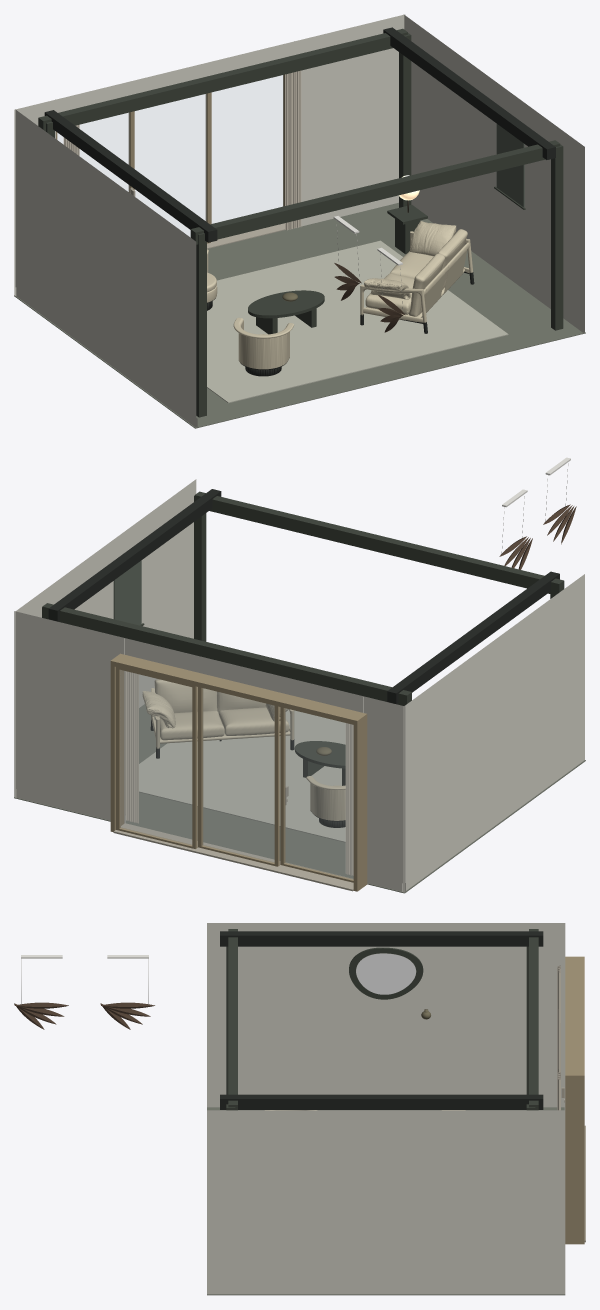
The model's file is great-1.glb.
The picture shows the model from 3 angles, top to bottom: view 1: azimuth 30°, elevation 25°; view 2: azimuth 150°, elevation 25°; view 3: azimuth 270°, elevation 25°; orthographic projection.
Visible parts, largest first — view 1: DESIGN | great removable wall finish, DESIGN | Great room primary ground, DESIGN | great floor finish, DESIGN | R10 lift-slide panel 3 glass, DESIGN | R10 lift-slide panel 2 glass, DESIGN | Great room sofa facing conversation, DESIGN | Great room timber ceiling member, DESIGN | Great room timber ceiling member.002, DESIGN | Great room structural edge.001, DESIGN | Great room structural edge, DESIGN | Great room soft window edge.001, DESIGN | Great room timber end post.002 (+8 smaller); view 2: DESIGN | great removable wall finish, DESIGN | Great room primary ground, DESIGN | R10 lift-slide panel 3 glass, DESIGN | R10 lift-slide panel 2 glass, DESIGN | R10 lift-slide panel 1 glass, DESIGN | great floor finish, DESIGN | Great room sofa facing conversation, DESIGN | Great room timber ceiling member, DESIGN | Great room timber ceiling member.002, DESIGN | R10 garden opening head, DESIGN | Great room structural edge.001, DESIGN | Great room structural edge (+15 smaller); view 3: DESIGN | great removable wall finish, DESIGN | Great room structural edge, DESIGN | Great room structural edge.001, DESIGN | R10 garden opening jamb.001, DESIGN | R10 garden opening head, DESIGN | R10 Giolino study reflective surface, DESIGN | Great room timber ceiling member.002, DESIGN | Great room timber ceiling member, DESIGN | R10 Giolino-inspired walnut frame, DESIGN | great floor finish, DESIGN | Required Flou pendant 1, DESIGN | Required Flou pendant 2.
Boxes of the visible parts, bbox=[...] form: DESIGN | great removable wall finish: bbox=[14, 14, 584, 427]; DESIGN | Great room primary ground: bbox=[207, 240, 508, 403]; DESIGN | great floor finish: bbox=[14, 202, 585, 428]; DESIGN | R10 lift-slide panel 3 glass: bbox=[212, 75, 283, 223]; DESIGN | R10 lift-slide panel 2 glass: bbox=[135, 94, 206, 236]; DESIGN | Great room sofa facing conversation: bbox=[360, 221, 474, 333]; DESIGN | Great room timber ceiling member: bbox=[190, 140, 560, 244]; DESIGN | Great room timber ceiling member.002: bbox=[38, 28, 407, 131]; DESIGN | Great room structural edge.001: bbox=[383, 27, 555, 159]; DESIGN | Great room structural edge: bbox=[44, 110, 217, 242]; DESIGN | Great room soft window edge.001: bbox=[285, 70, 301, 230]; DESIGN | Great room timber end post.002: bbox=[551, 144, 563, 330]; DESIGN | great removable wall finish: bbox=[14, 479, 584, 892]; DESIGN | Great room primary ground: bbox=[139, 709, 345, 842]; DESIGN | R10 lift-slide panel 3 glass: bbox=[120, 670, 191, 845]; DESIGN | R10 lift-slide panel 2 glass: bbox=[203, 688, 274, 862]; DESIGN | R10 lift-slide panel 1 glass: bbox=[285, 708, 353, 879]; DESIGN | great floor finish: bbox=[14, 704, 585, 893]; DESIGN | Great room sofa facing conversation: bbox=[142, 679, 294, 758]; DESIGN | Great room timber ceiling member: bbox=[194, 491, 564, 595]; DESIGN | Great room timber ceiling member.002: bbox=[42, 603, 411, 705]; DESIGN | R10 garden opening head: bbox=[110, 653, 367, 725]; DESIGN | Great room structural edge.001: bbox=[48, 489, 221, 621]; DESIGN | Great room structural edge: bbox=[387, 571, 559, 704]; DESIGN | great removable wall finish: bbox=[207, 923, 565, 1294]; DESIGN | Great room structural edge: bbox=[220, 931, 543, 946]; DESIGN | Great room structural edge.001: bbox=[220, 1094, 543, 1109]; DESIGN | R10 garden opening jamb.001: bbox=[565, 1077, 584, 1244]; DESIGN | R10 garden opening head: bbox=[565, 956, 584, 1080]; DESIGN | R10 Giolino study reflective surface: bbox=[356, 953, 415, 994]; DESIGN | Great room timber ceiling member.002: bbox=[529, 929, 538, 1110]; DESIGN | Great room timber ceiling member: bbox=[228, 929, 237, 1110]; DESIGN | R10 Giolino-inspired walnut frame: bbox=[349, 947, 423, 999]; DESIGN | great floor finish: bbox=[207, 1107, 565, 1295]; DESIGN | Required Flou pendant 1: bbox=[14, 1002, 68, 1029]; DESIGN | Required Flou pendant 2: bbox=[100, 1002, 154, 1029].
Size of the model in its own units: 6 by 3.04 by 7.7.
